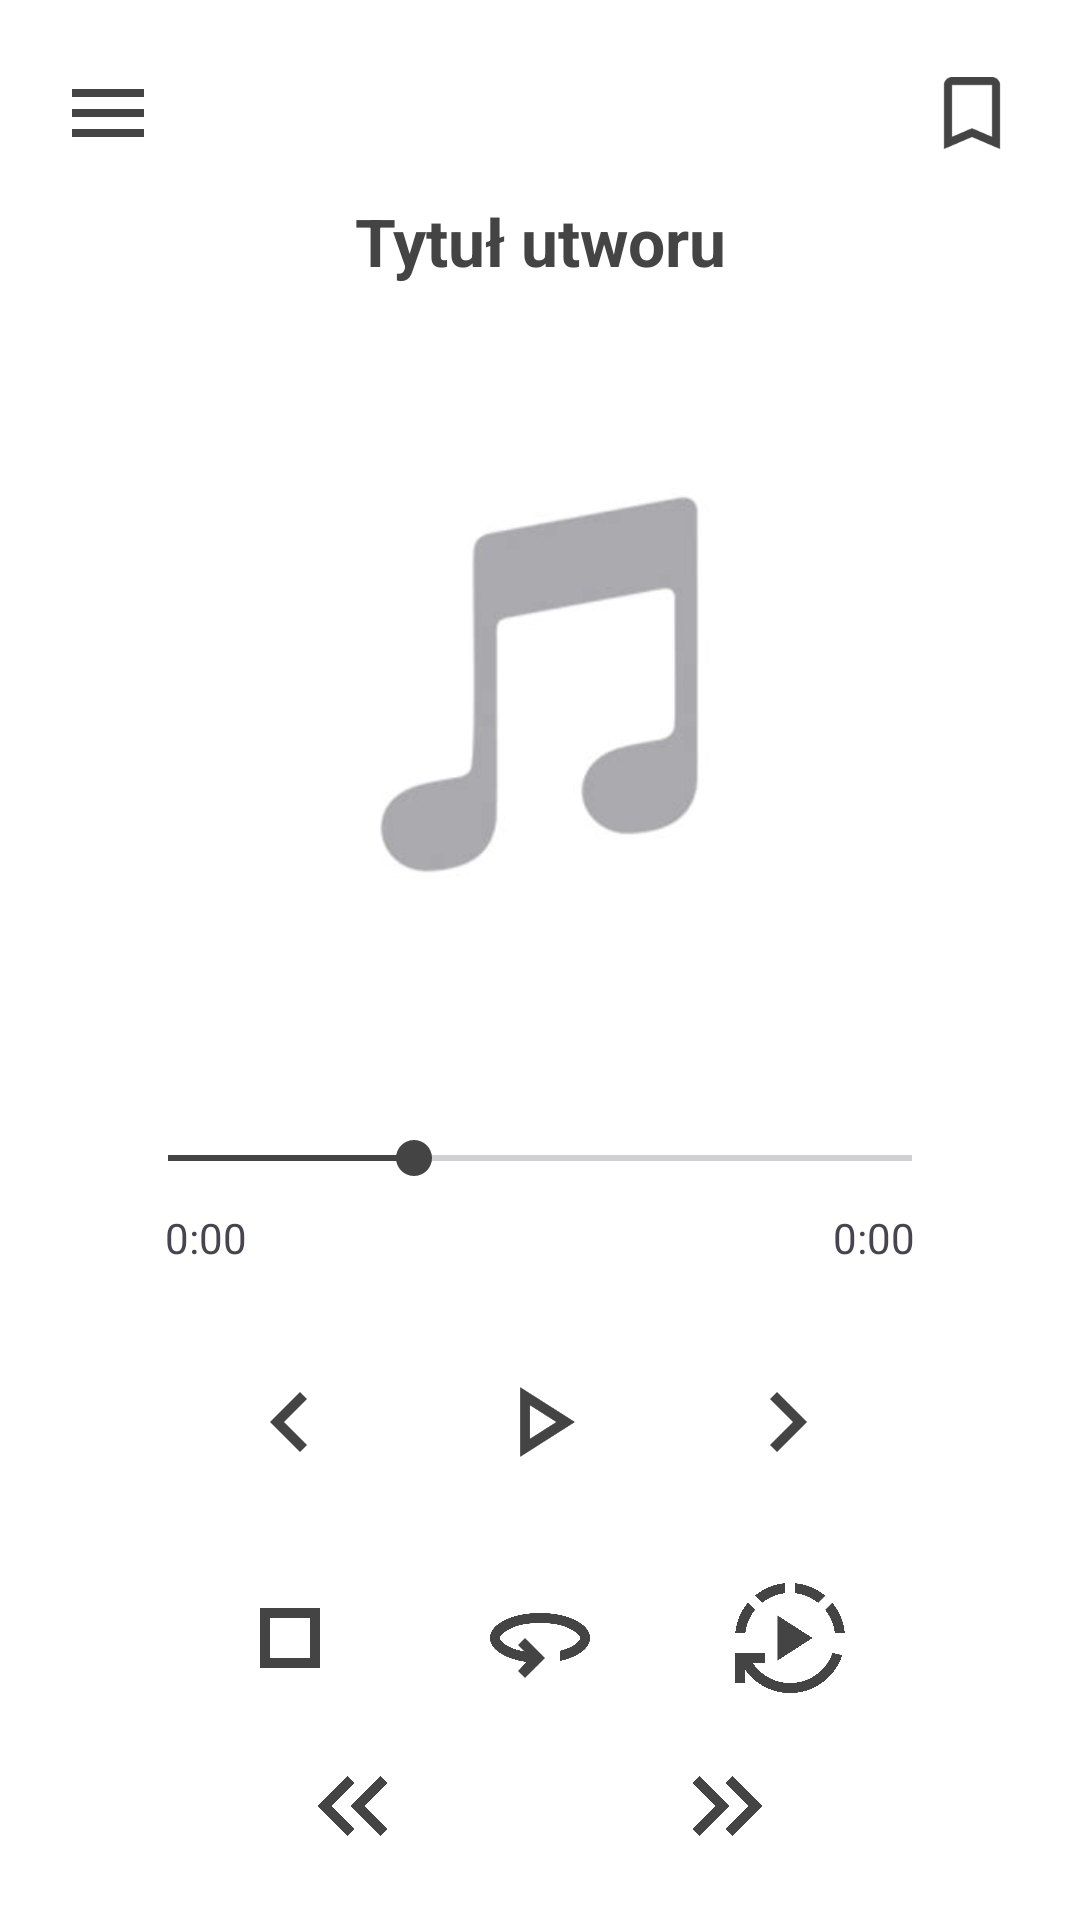

Icon click points for this 1080px x 1920px phone screenshot, format point (x, y):
bookmark: point (972, 113)
loop: point (540, 1645)
menu: point (108, 113)
play: point (547, 1422)
stop: point (290, 1638)
